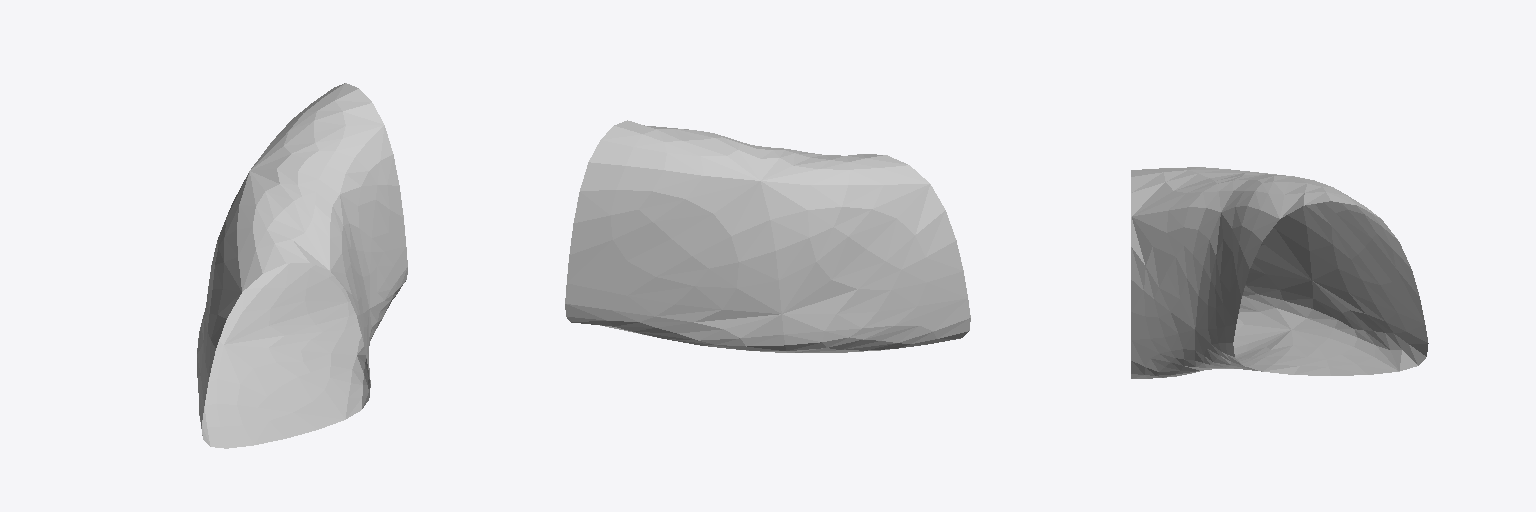
File: cave_902r_2.obj
3 views of the same model, side by side, from view 1: azimuth 30°, elevation 25°; view 2: azimuth 150°, elevation 25°; view 3: azimuth 270°, elevation 25° (orthographic).
Visible parts, largest first — view 1: cave_902r_2_Cube.082; view 2: cave_902r_2_Cube.082; view 3: cave_902r_2_Cube.082.
Boxes of the visible parts, x1=… form: cave_902r_2_Cube.082: x1=197, y1=83, x2=407, y2=448; cave_902r_2_Cube.082: x1=565, y1=120, x2=970, y2=352; cave_902r_2_Cube.082: x1=1131, y1=167, x2=1428, y2=378.
Bounding box in the file's own units: 8.94 × 7.81 × 8.94.